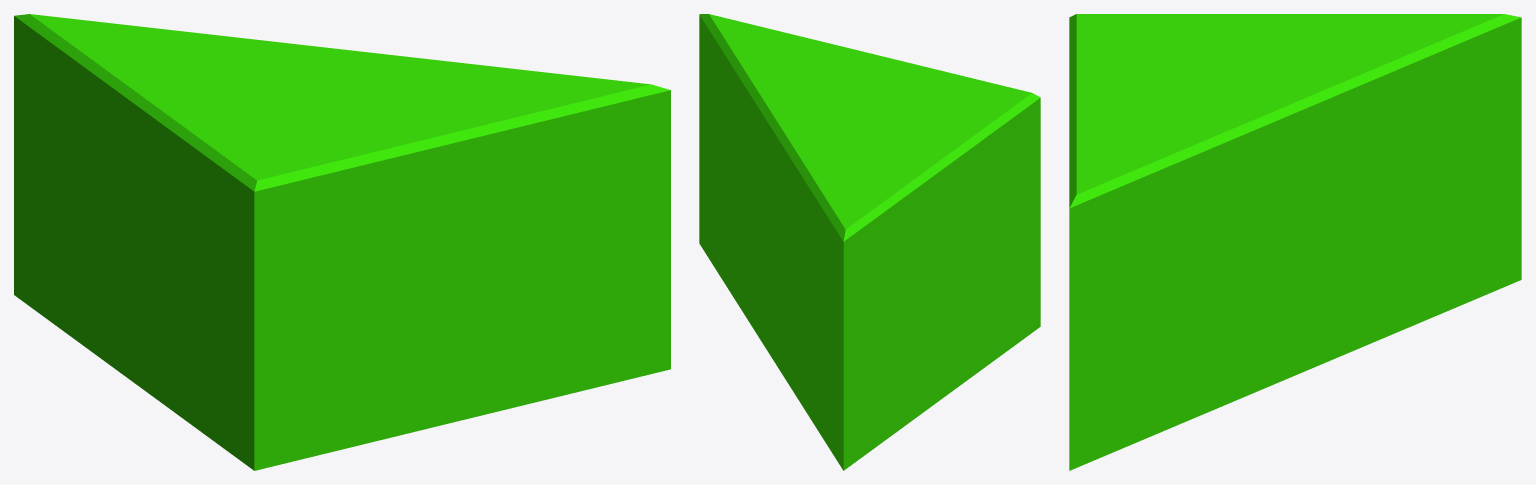
File: triangle_3x2.fbx
The picture shows the model from 3 angles, left to right: view 1: azimuth 30°, elevation 25°; view 2: azimuth 150°, elevation 25°; view 3: azimuth 270°, elevation 25°; orthographic projection. The views are drawn at different scales.
Parts seen in each view (by area): view 1: triangle_3x2; view 2: triangle_3x2; view 3: triangle_3x2.
Part boxes in pixels (x1,y1,x2,y2): triangle_3x2: (14,14,670,470); triangle_3x2: (699,14,1040,470); triangle_3x2: (1069,14,1521,470).
Size of the model in its own units: 320 by 210 by 320.
